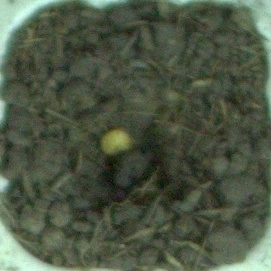pepper seed: (28, 48, 165, 205)
